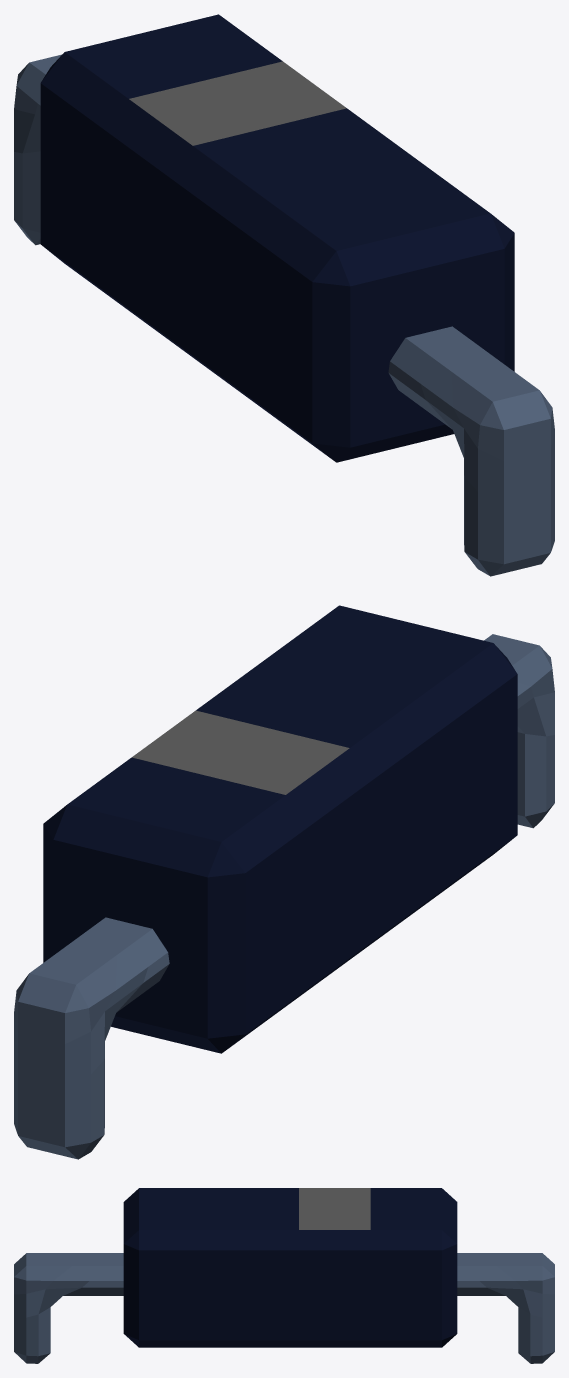
3 views of the same model, one above another, from view 1: azimuth 30°, elevation 25°; view 2: azimuth 150°, elevation 25°; view 3: azimuth 270°, elevation 25° (orthographic). The views are drawn at different scales.
Parts seen in each view (by area): view 1: C 1; view 2: C 1; view 3: C 1.
Part boxes in pixels (<box>): C 1: <box>14,14,554,576</box>; C 1: <box>14,605,554,1159</box>; C 1: <box>14,1188,554,1363</box>.
Size of the model in its own units: 12.63 by 15.76 by 52.52.
